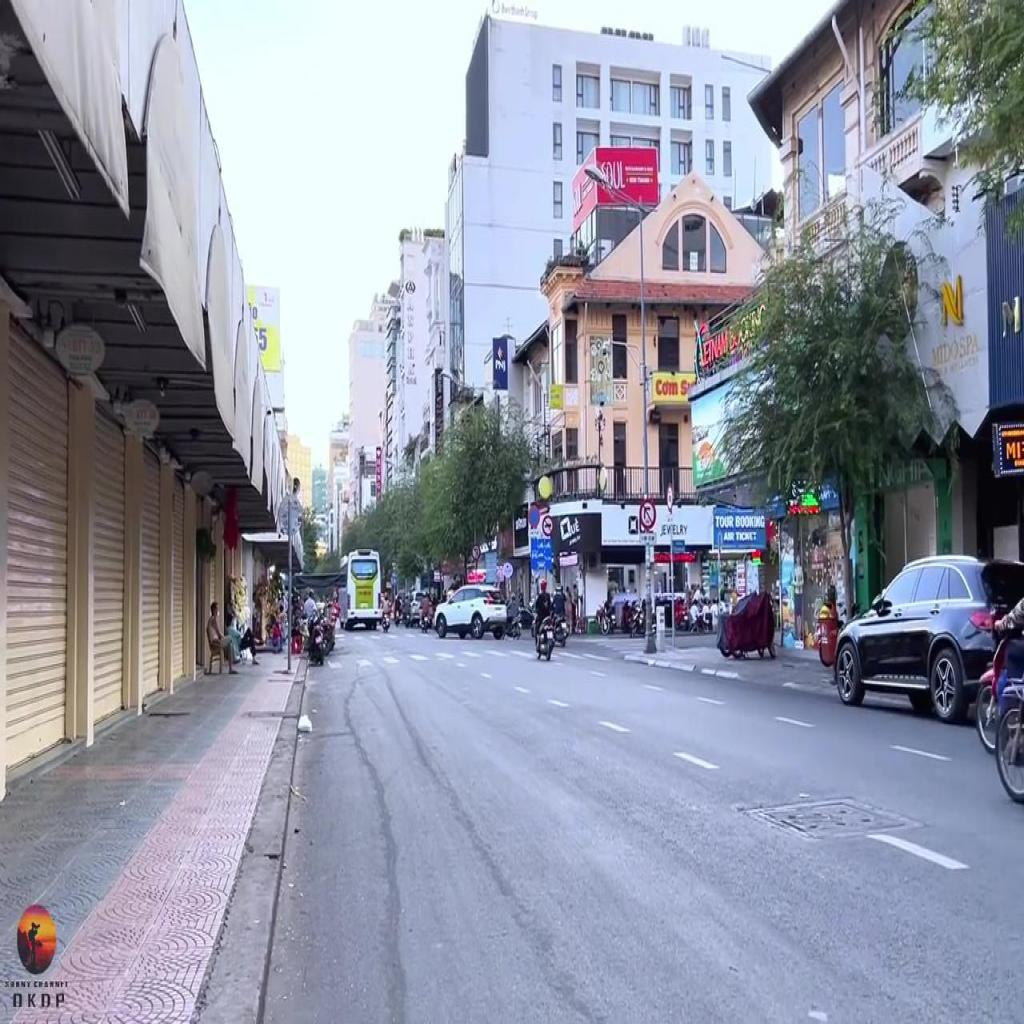cam_do_xe: (528, 506, 541, 528)
cam_o_to_re_trai: (639, 500, 656, 530)
cam_o_to_tai: (542, 516, 554, 536)
cam_re_trai: (471, 544, 481, 560)
